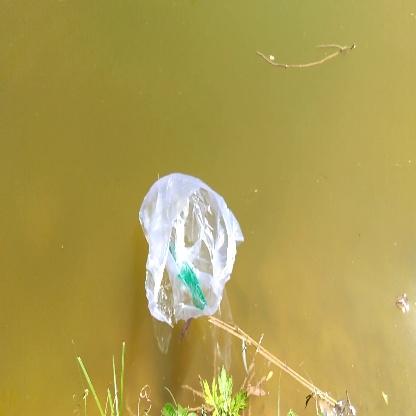plastic-bag: (137, 168, 248, 323)
